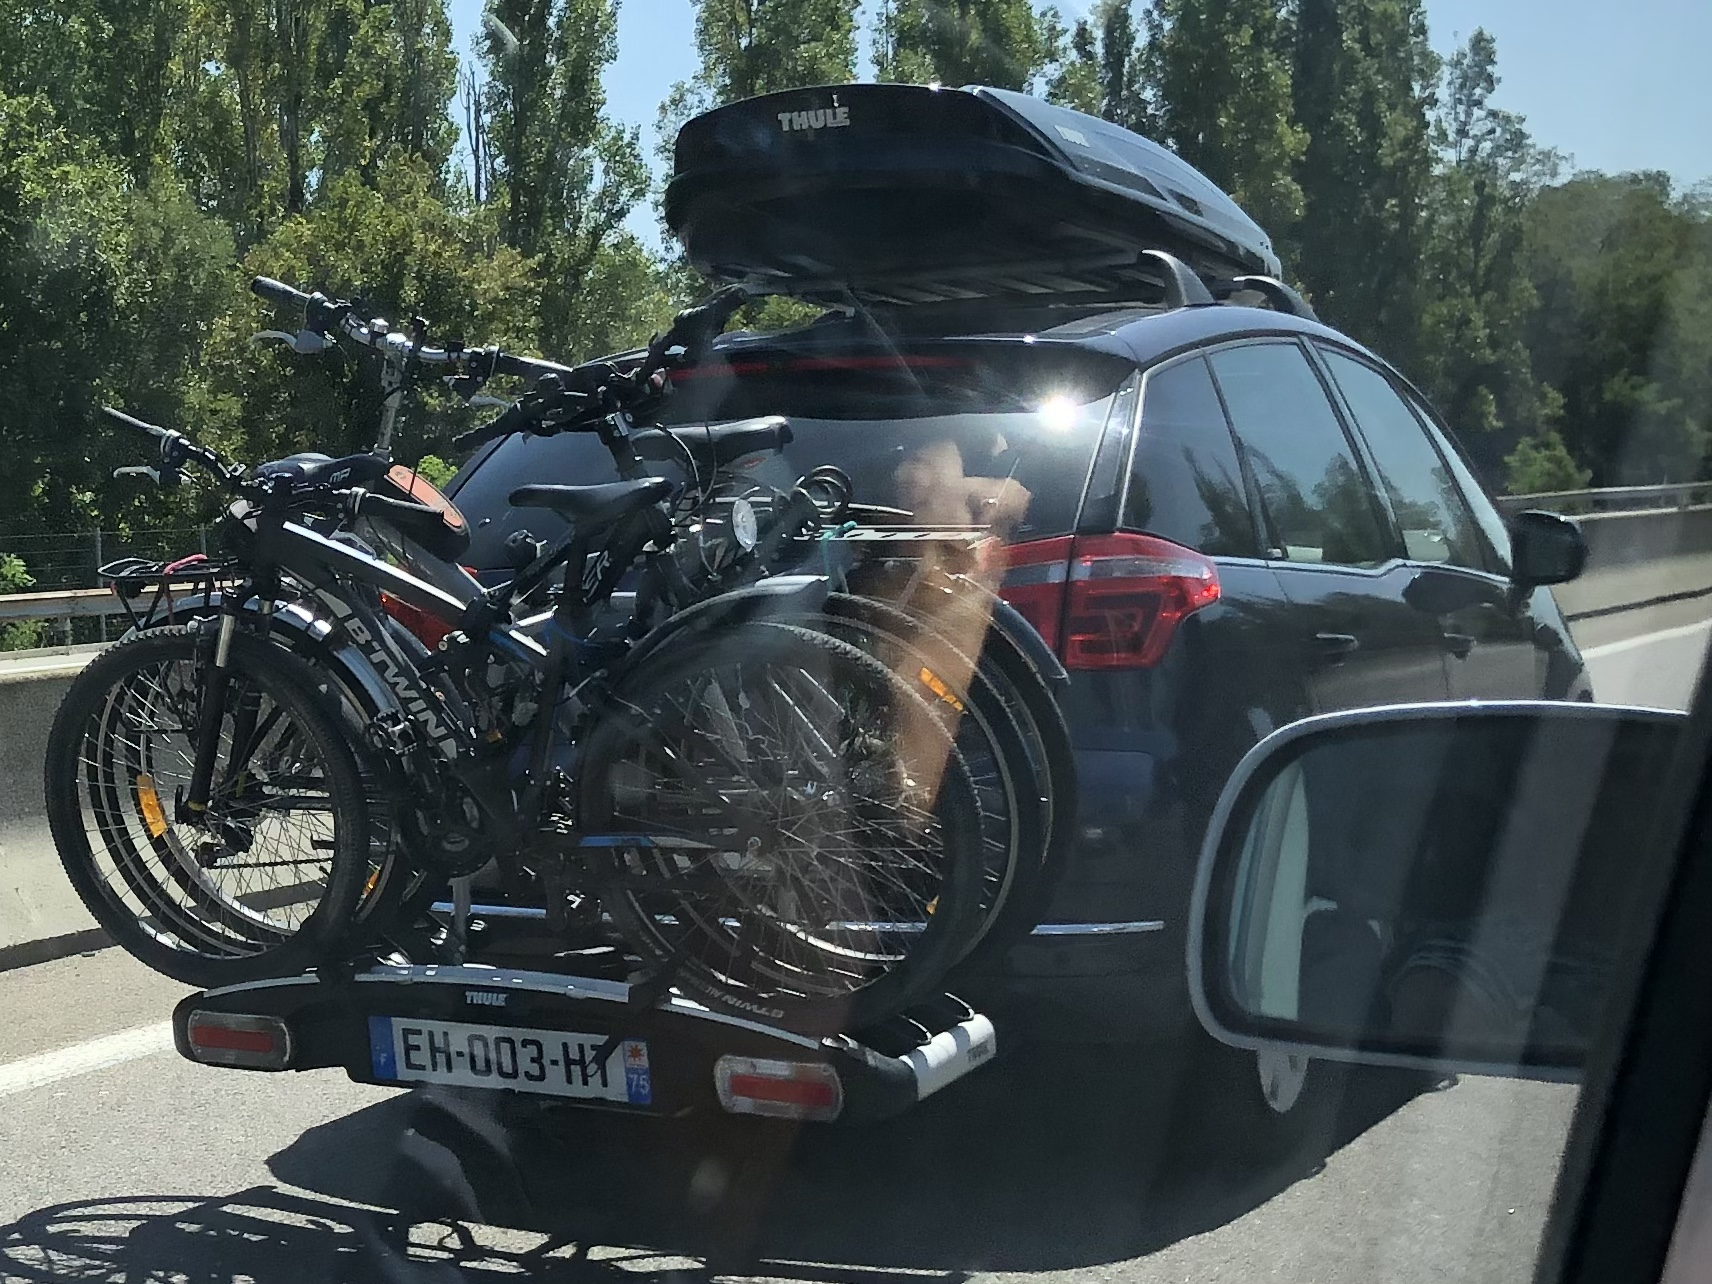licence plate: (362, 1007, 663, 1114)
